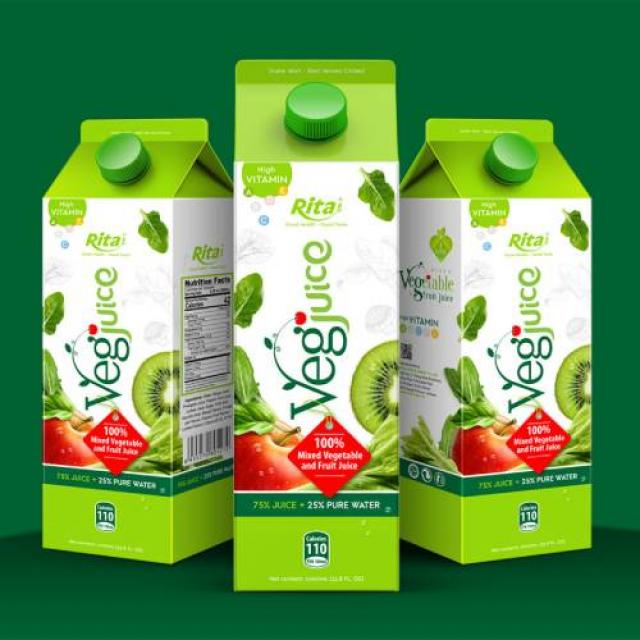non_white_jug: (218, 45, 422, 612), (16, 95, 239, 570), (392, 103, 616, 570)
